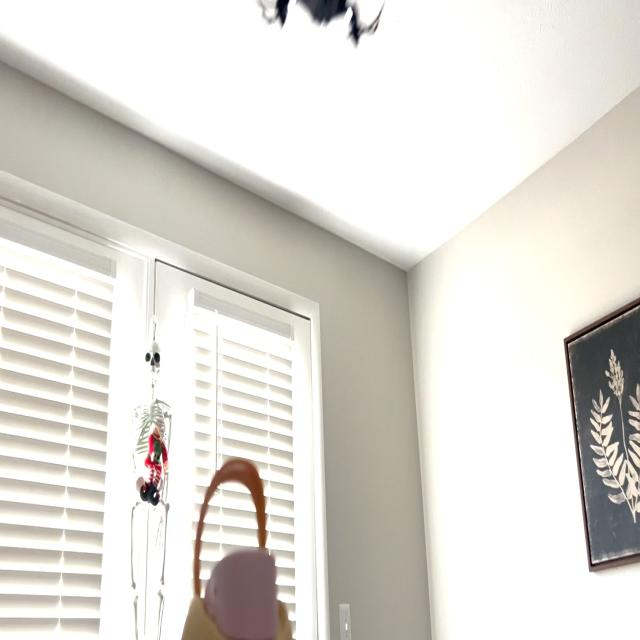drone: (256, 0, 398, 63)
